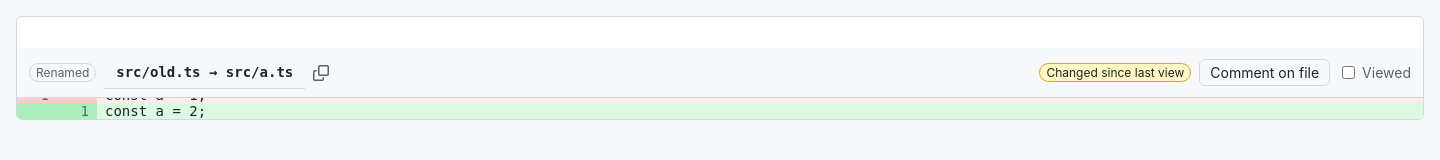
copy button writes the new file path to the clipboard and shows a copied state
This screenshot has width=1440, height=160.
Click the button named "Copy file path" at coordinates (321, 72), box [309,60,333,84]
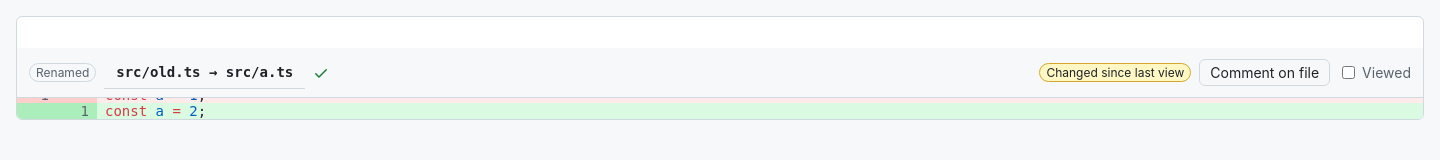
Expected: the button named "Copied!" is shown, [309,60,333,84]
